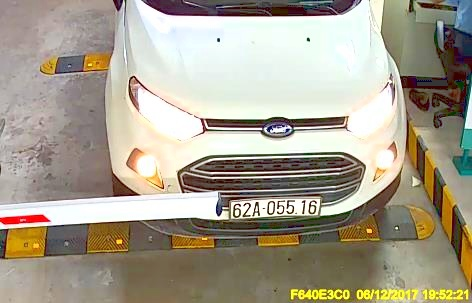plate: (228, 192, 324, 220)
